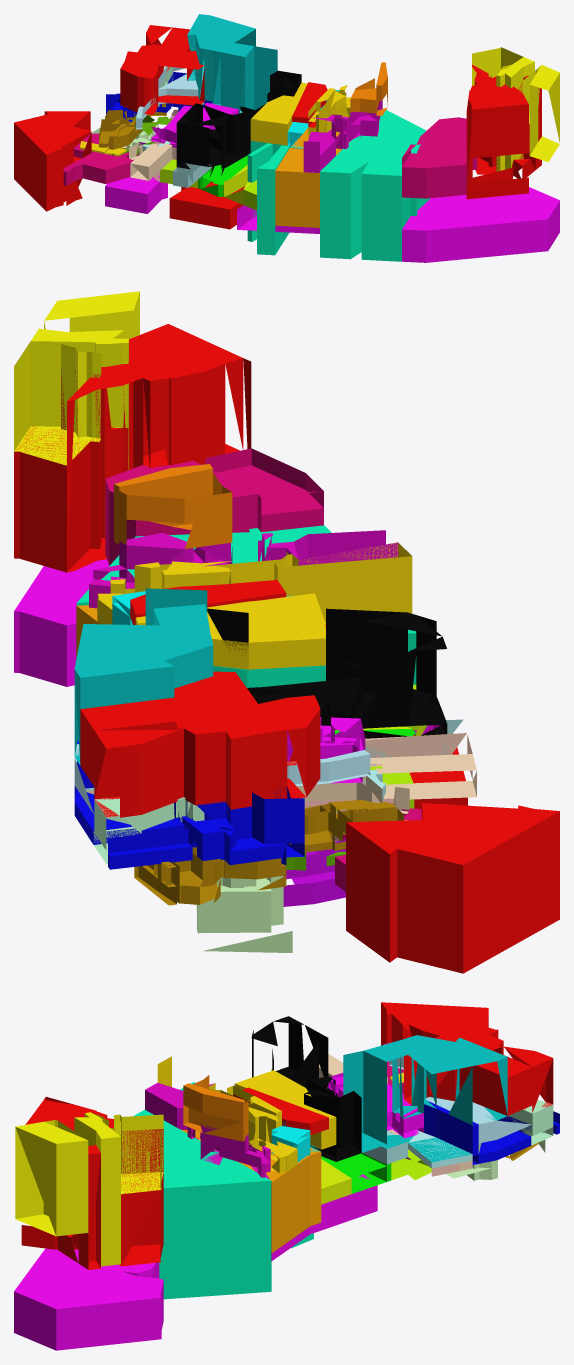
File: contratosautocad.glb
3 views of the same model, one above another, from view 1: azimuth 30°, elevation 25°; view 2: azimuth 150°, elevation 25°; view 3: azimuth 270°, elevation 25° (orthographic). The views are drawn at different scales.
Bounding box in the file's own units: 2742 × 1080 × 2584.
